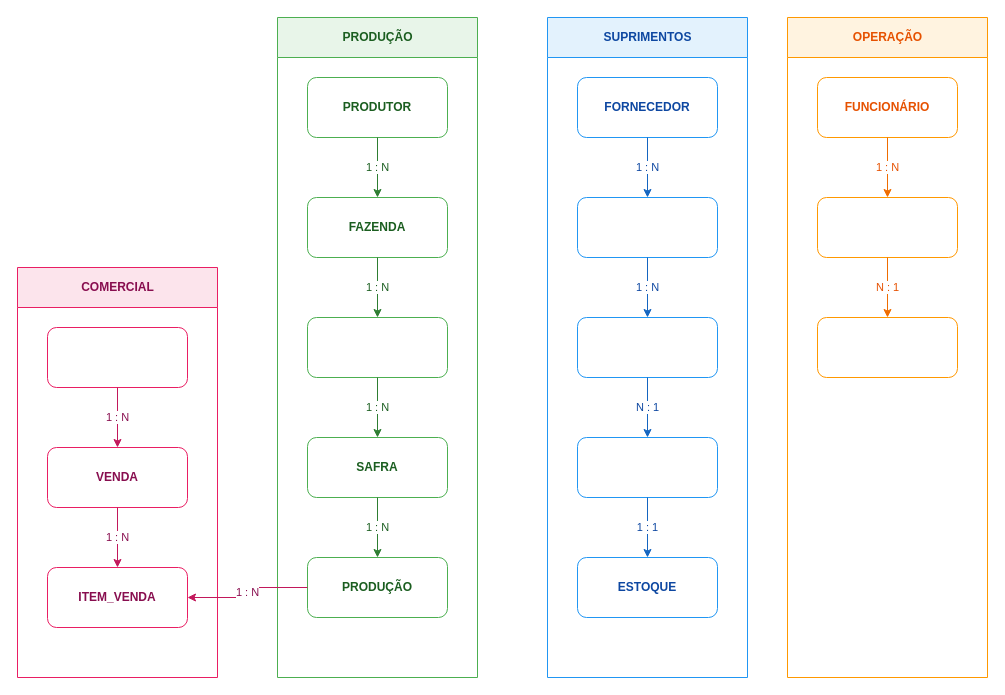
Some shapes in this 1005 by 695 pixel diagram are drawn without their labels. Each missing label, with the centre of its shape:
"CLIENTE" goes at [117,357].
"COMPRA" goes at [647,227].
"ITEM_COMPRA" goes at [647,347].
"MÁQUINA" goes at [887,347].
"PRODUTO_INSUMO" goes at [647,467].
"TALHÃO" goes at [377,347].
"UTILIZAÇÃO_MÁQUINA" goes at [887,227].
